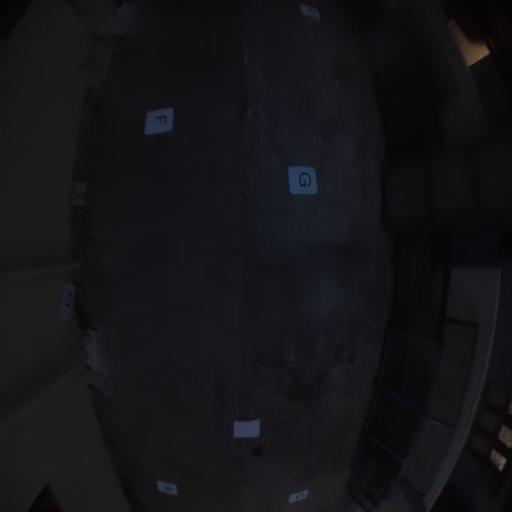A: (156, 480, 178, 496)
C: (289, 488, 309, 504)
D: (59, 282, 76, 320)
E: (70, 180, 86, 207)
F: (144, 107, 173, 134)
G: (288, 166, 318, 196)
H: (299, 2, 321, 19)
